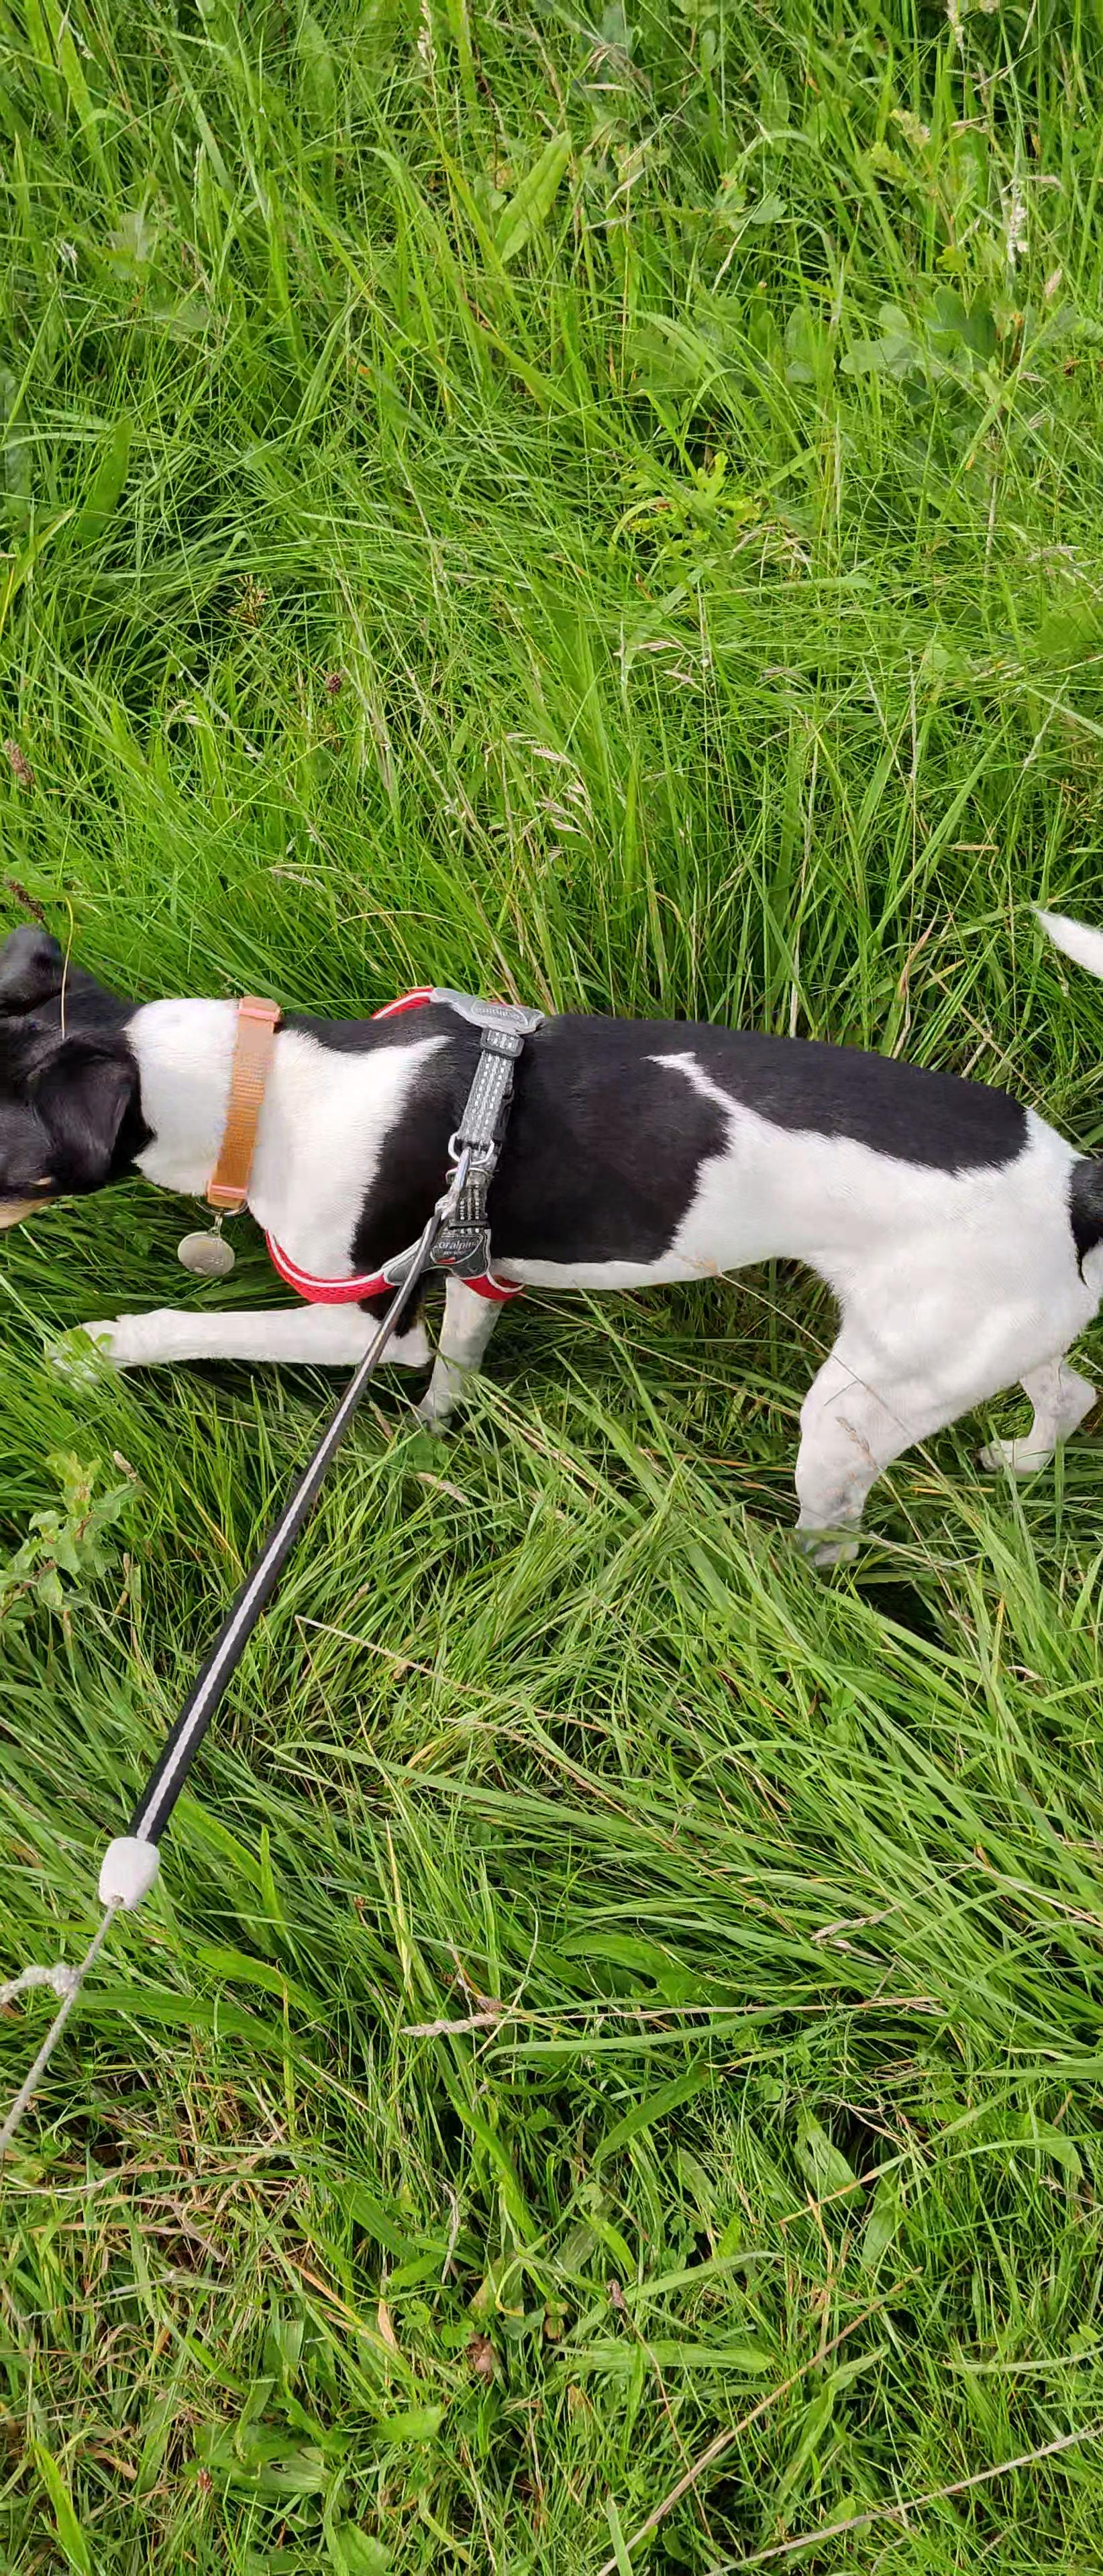Dog: (0, 823, 1103, 1580)
